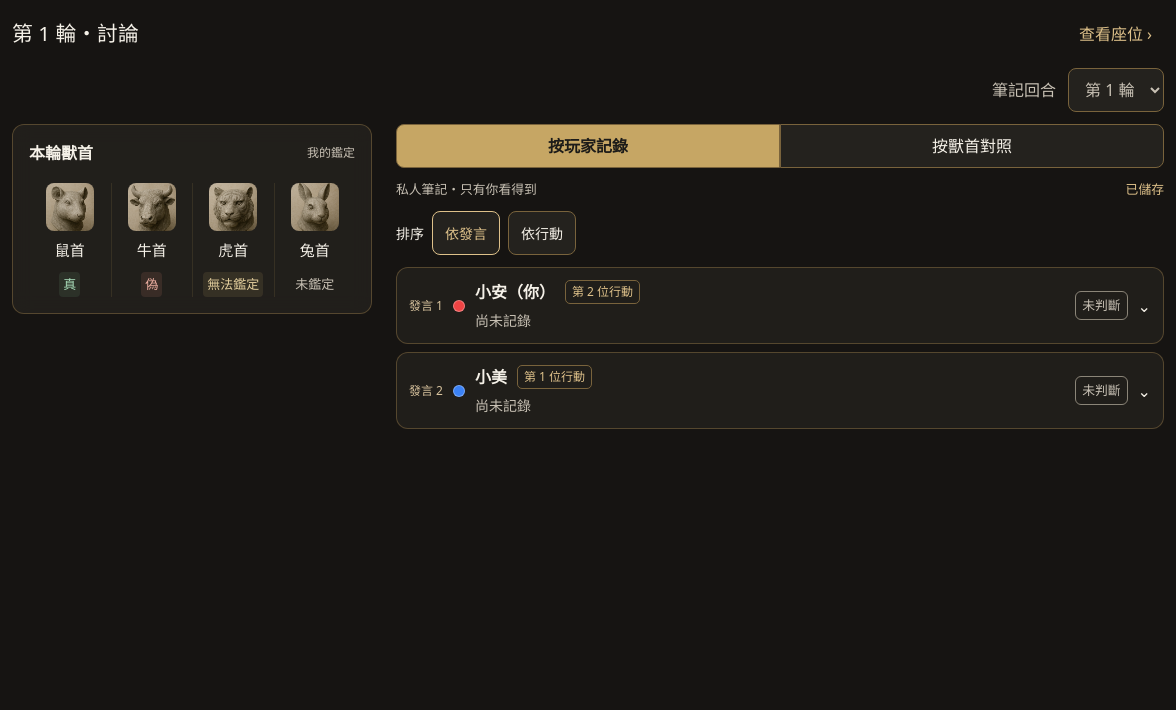
Test: edits a private alignment inline and keeps it through sorting, views and clearing
Click the button "發言 2 小美 第 1 位行動 尚未記錄 未判斷 ⌄" at (426, 390), box [397,353,1163,428]
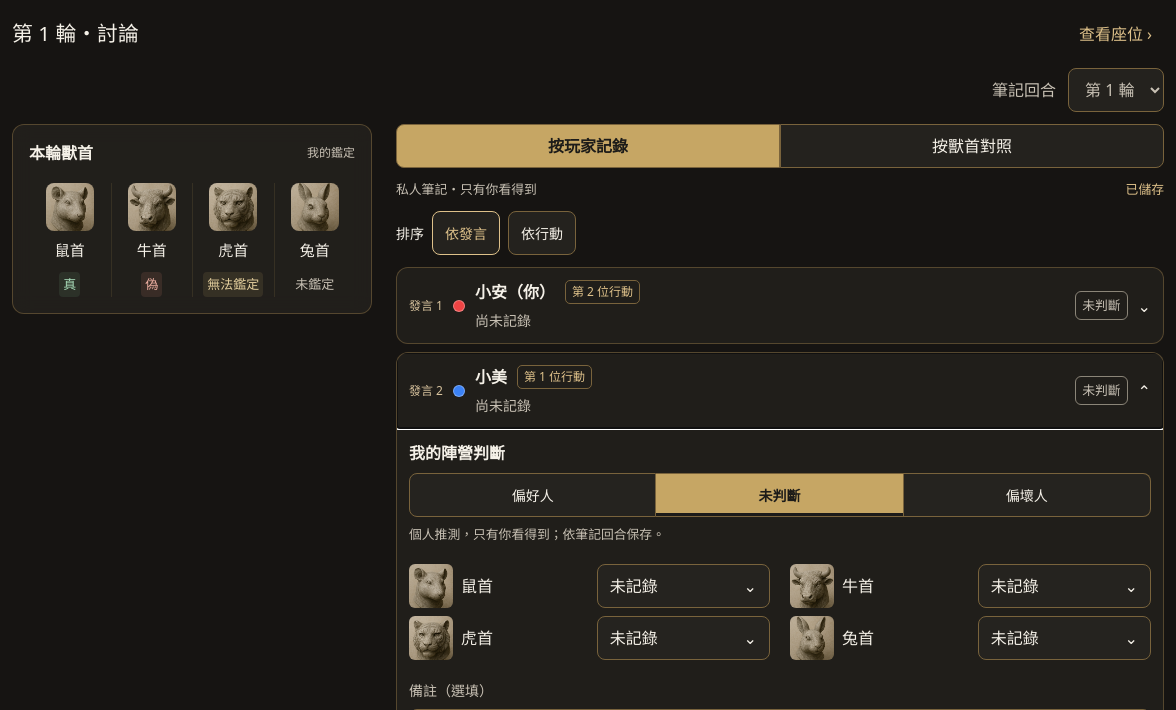
Click the button "偏壞人" at (1027, 495), box [904,473,1151,517]
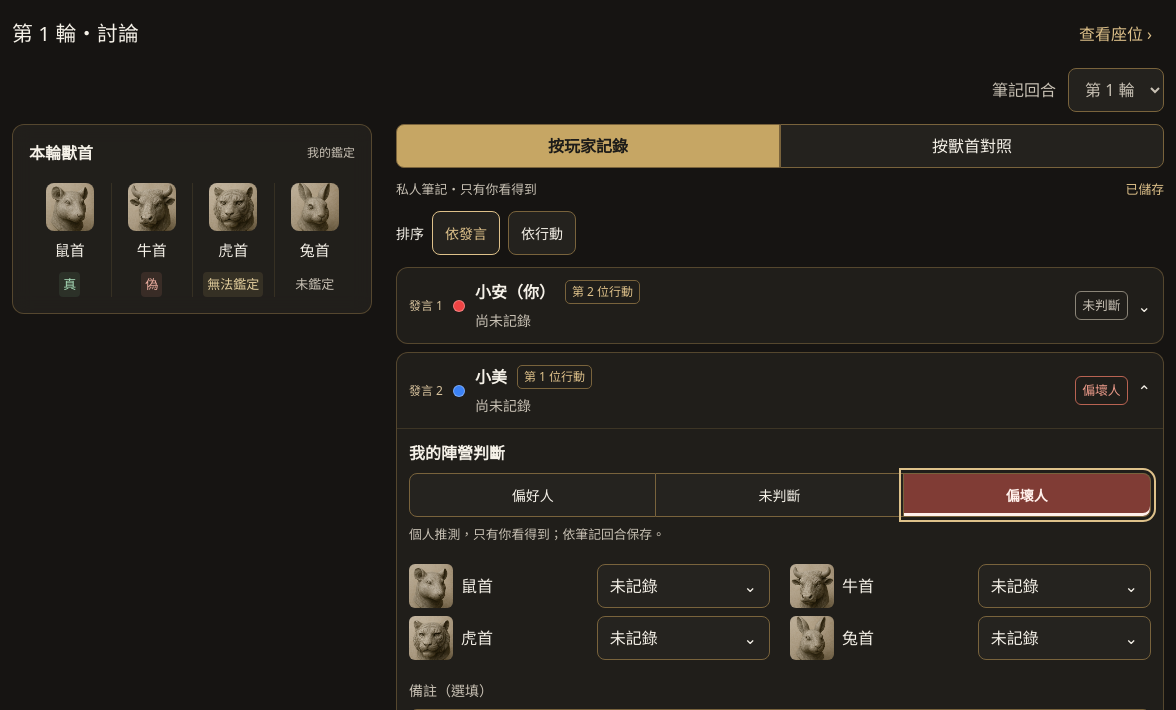
Expected: the button "發言 2 小美 第 1 位行動 尚未記錄 偏壞人 ⌃" is shown, [397,353,1163,428]
Click the button "依行動" at (542, 233), box [508,211,576,255]
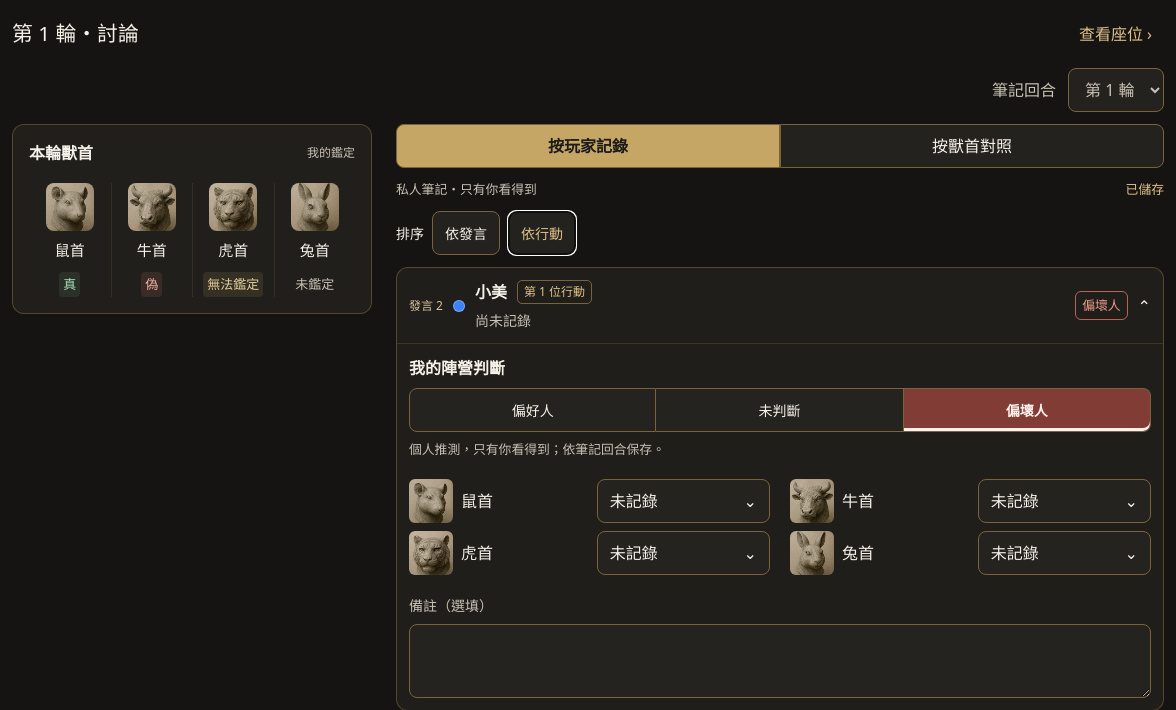
Expected: the element named "小美的陣營判斷" is shown, [409,356,1151,459]
Click the button "按獸首對照" at (972, 146), box [780,124,1164,168]
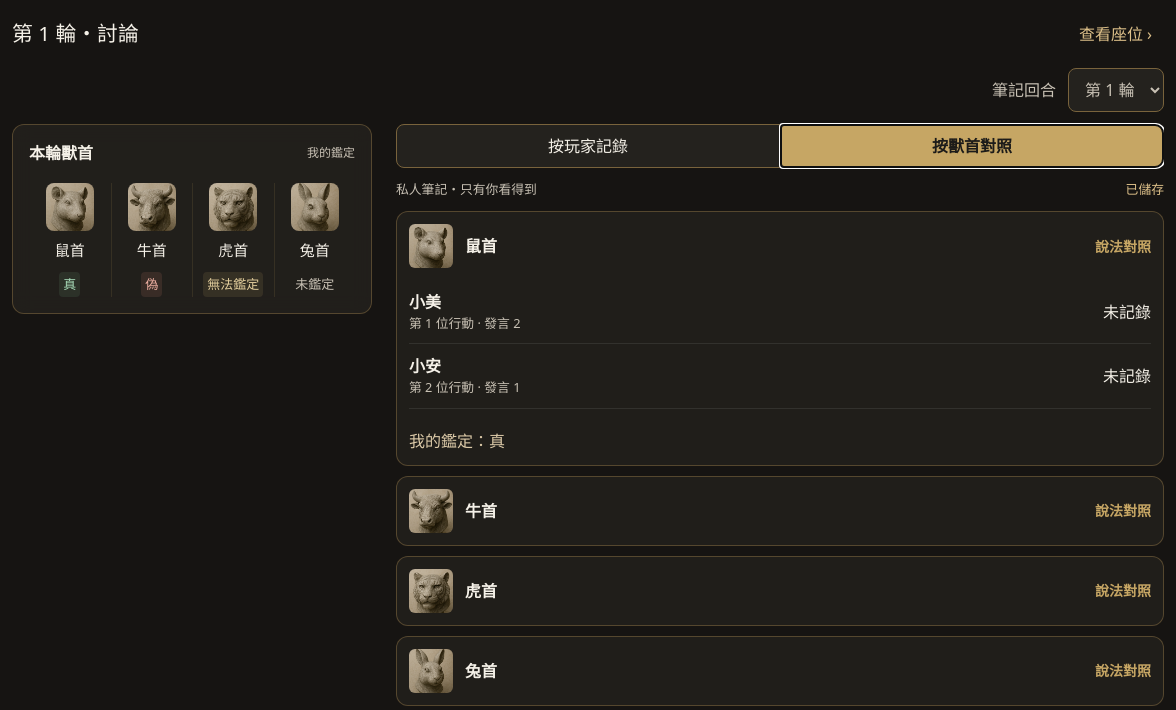
Click the button "按玩家記錄" at (588, 146), box [396,124,780,168]
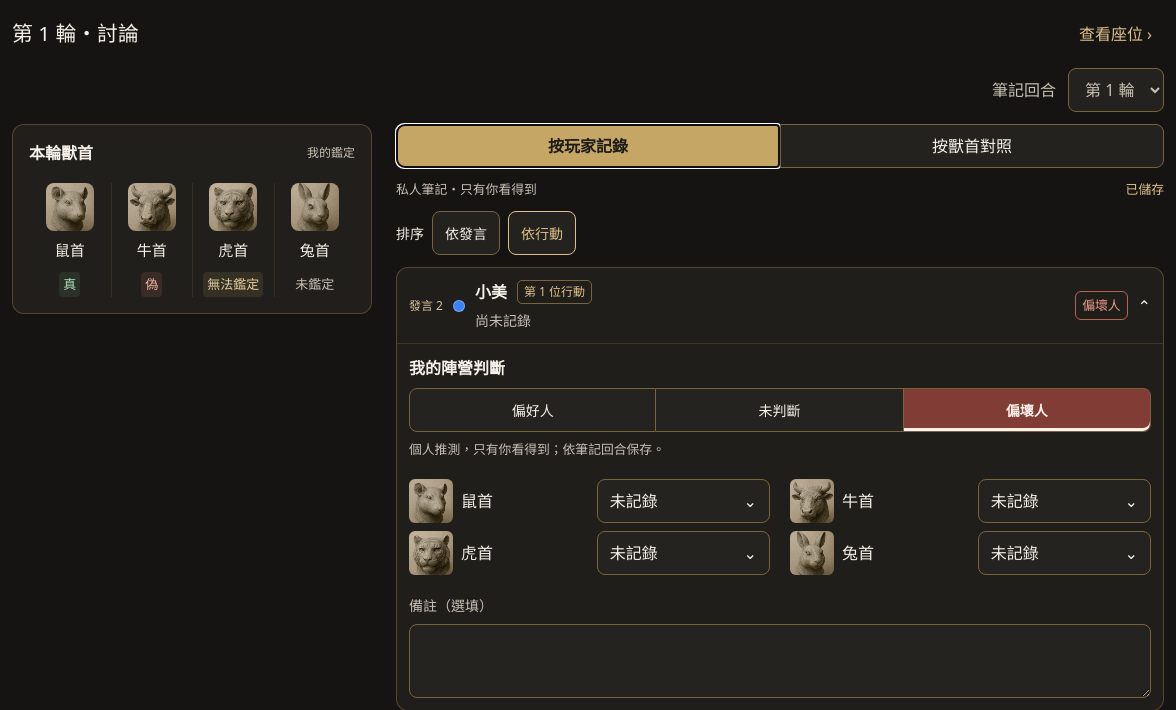
Expected: the button "發言 2 小美 第 1 位行動 尚未記錄 偏壞人 ⌃" is shown, [397,268,1163,343]
Click the button "未判斷" at (780, 410), box [656,388,904,432]
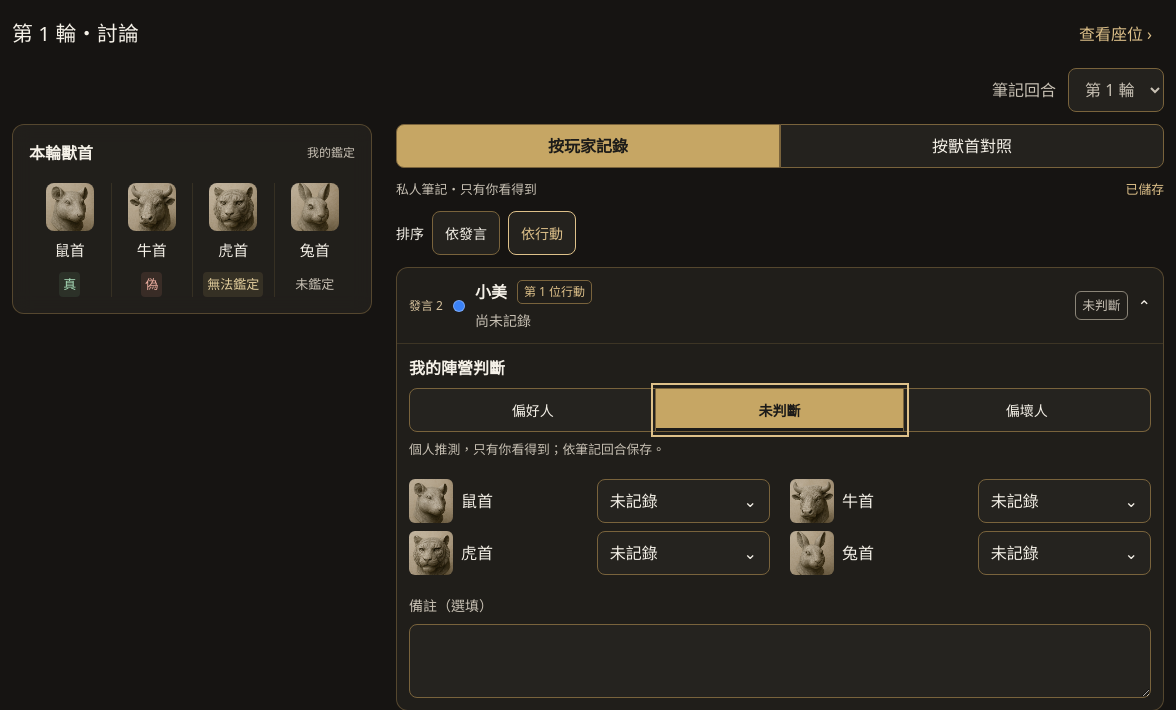
Expected: the button "發言 2 小美 第 1 位行動 尚未記錄 未判斷 ⌃" is shown, [397,268,1163,343]
